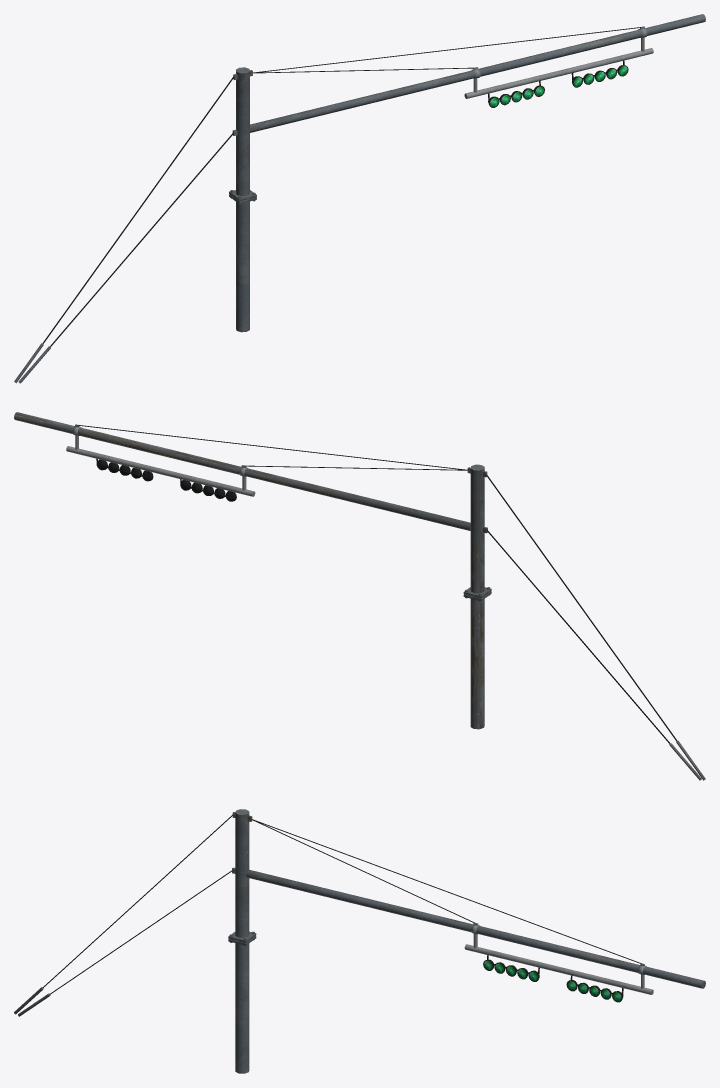
The model's file is Post-Start-03-B.fbx.
3 renders of one model, top to bottom at view 1: azimuth 30°, elevation 25°; view 2: azimuth 150°, elevation 25°; view 3: azimuth 330°, elevation 25°, orthographic.
Visible parts, largest first — view 1: Post-Start--03, Green; view 2: Post-Start--03; view 3: Post-Start--03, Green.
Boxes of the visible parts, x1=… form: Post-Start--03: x1=14, y1=14, x2=705, y2=383; Green: x1=489, y1=66, x2=627, y2=107; Post-Start--03: x1=14, y1=412, x2=705, y2=780; Post-Start--03: x1=14, y1=809, x2=705, y2=1073; Green: x1=483, y1=960, x2=621, y2=1001.
Size of the model in its own units: 3554 by 1275 by 91.37.
